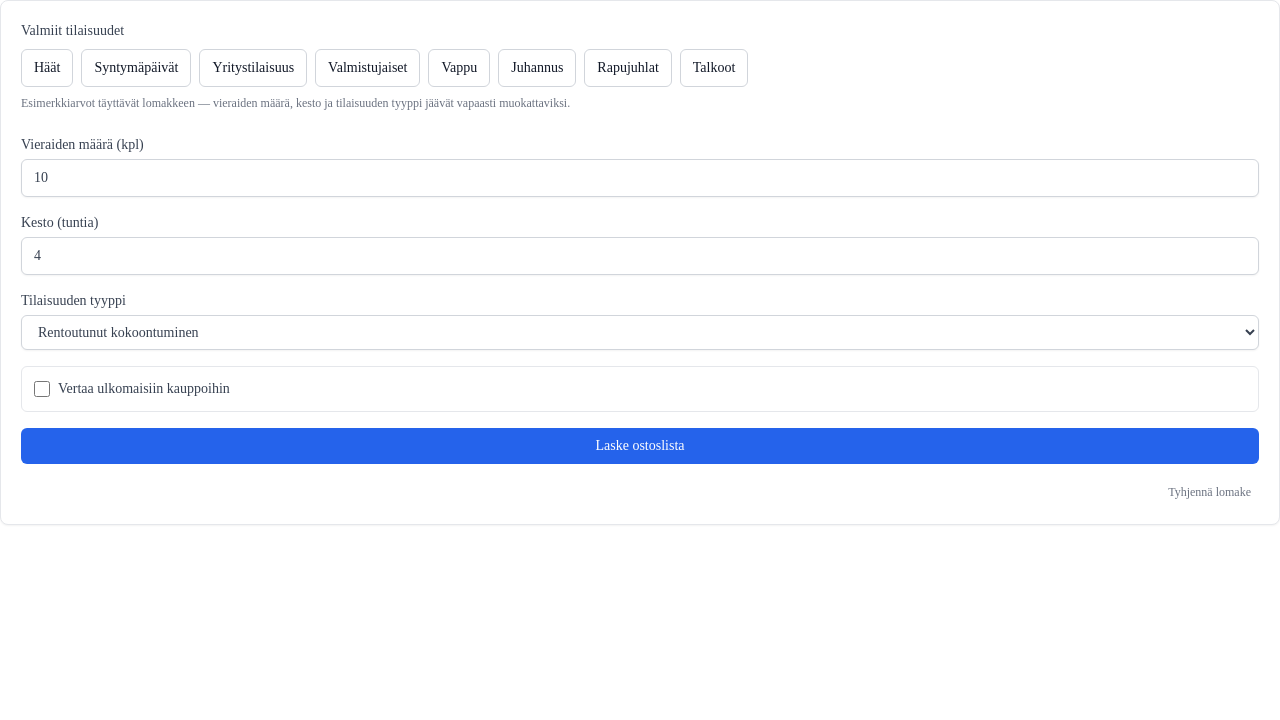
Test: EventView form pass (task 4.7) › the reset affordance restores every input to its default, also after a template
The image size is (1280, 720).
Note: The wedding template drives the fields away from their defaults.
What coordinates should you click on to do the following:
click the button with test id "event-template-wedding"
I would click on:
 (47, 68)
Its box is [21,49,73,87].
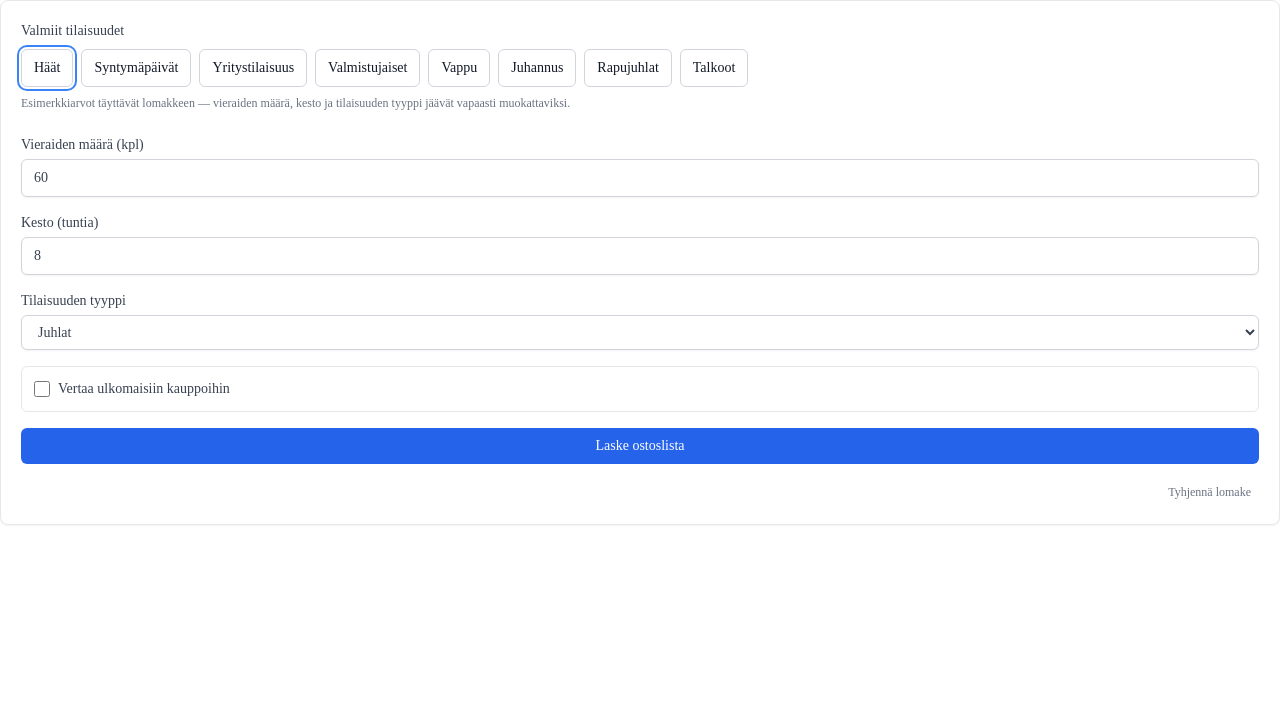
Check: the number field labelled "Vieraiden määrä (kpl)" holds "60", box [21,159,1259,197]
Check: the number field labelled "Kesto (tuntia)" holds "8", box [21,237,1259,275]
What coordinates should you click on to do the following:
click the button with test id "event-reset"
I would click on:
 (1210, 492)
Its box is [1160,480,1259,504].
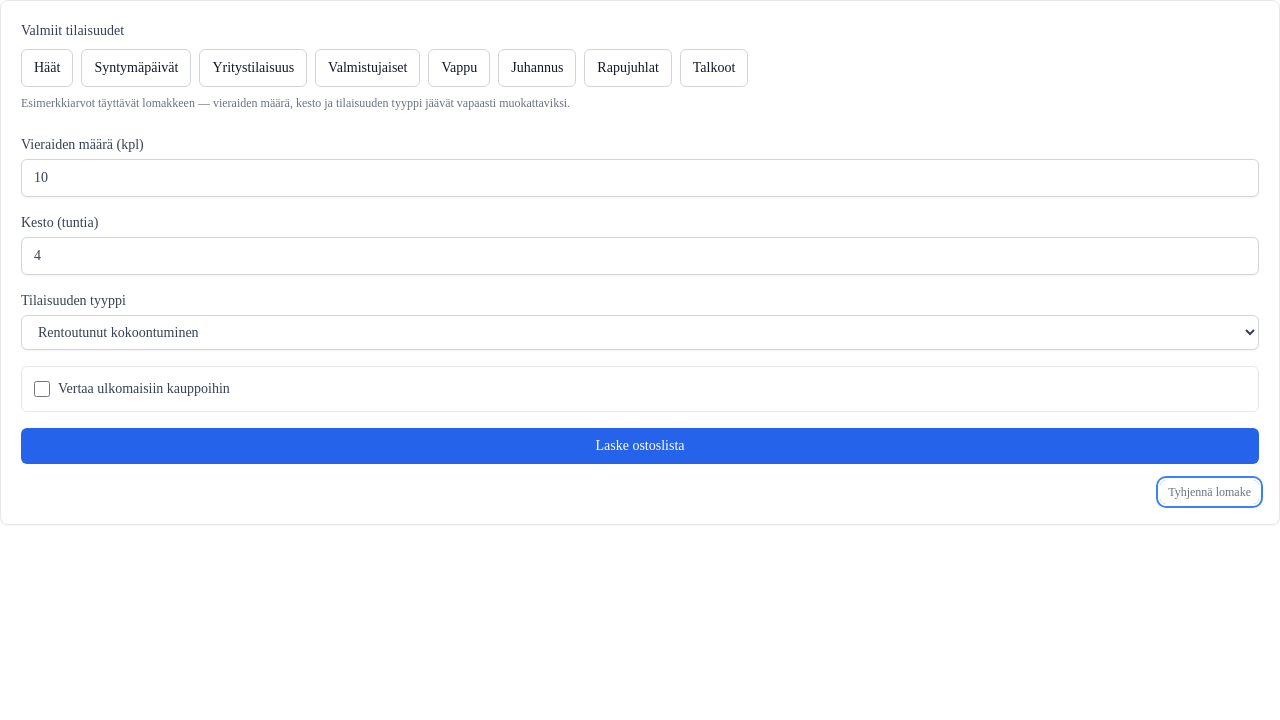
Check: the number field labelled "Vieraiden määrä (kpl)" holds "10", box [21,159,1259,197]
Check: the number field labelled "Kesto (tuntia)" holds "4", box [21,237,1259,275]
Check: the dropdown with id "event-profile" shows "Rentoutunut kokoontuminen", box [21,315,1259,350]
